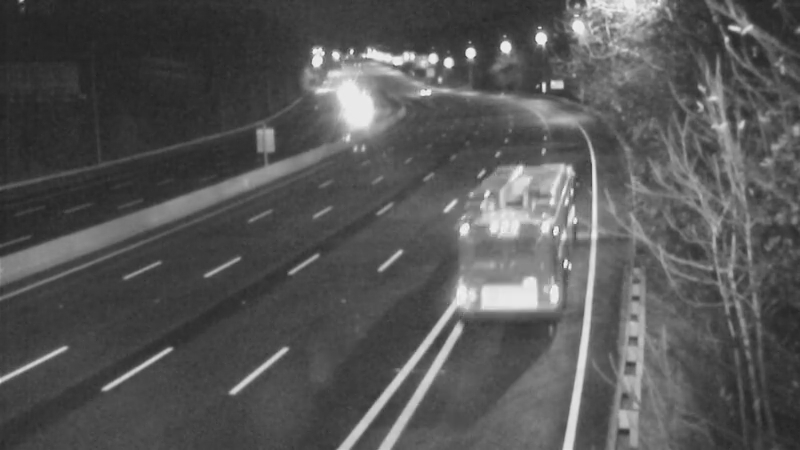vehicle: (476, 193, 556, 273), (404, 64, 454, 114), (329, 87, 379, 137)
